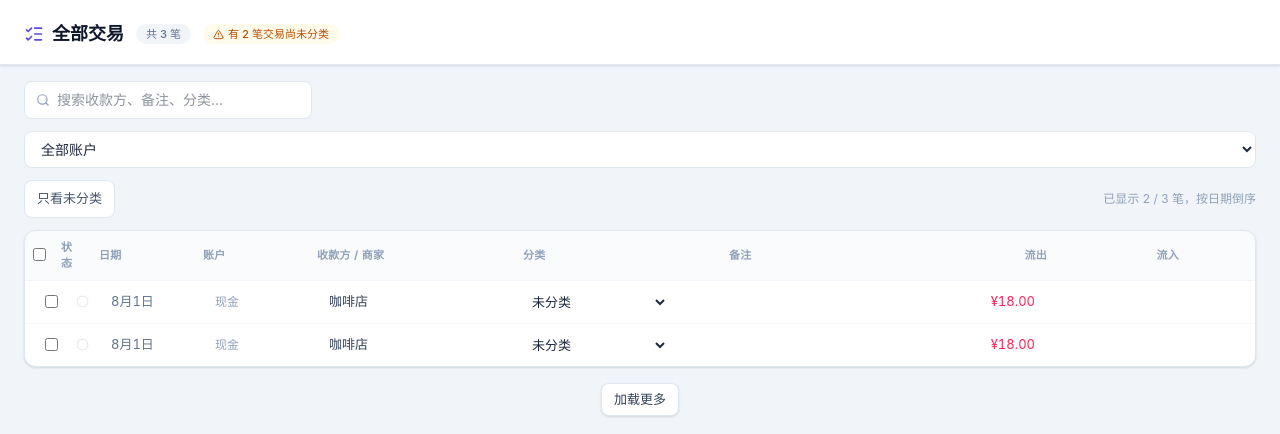
Test: TransactionsPage › total 大于已加载数量时显示加载更多并追加数据
The width and height of the screenshot is (1280, 434).
Click the button "加载更多" at x=640, y=399, box left=601, top=382, right=679, bottom=416
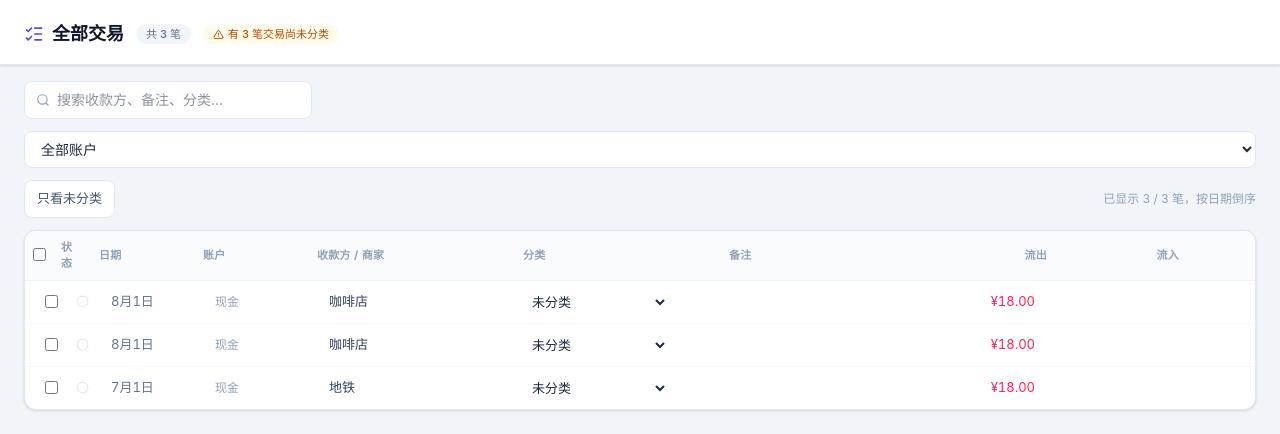
Expected: the text "地铁" is shown, left=329, top=379, right=355, bottom=395
